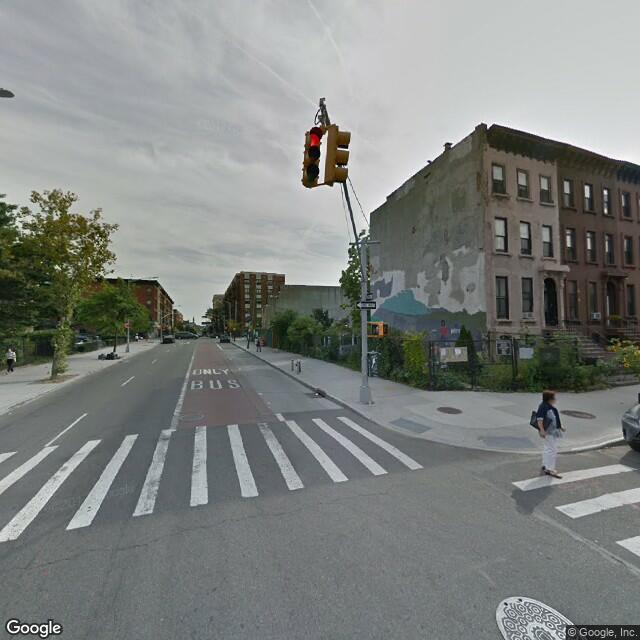litter: (95, 347, 127, 368), (306, 382, 333, 405)
